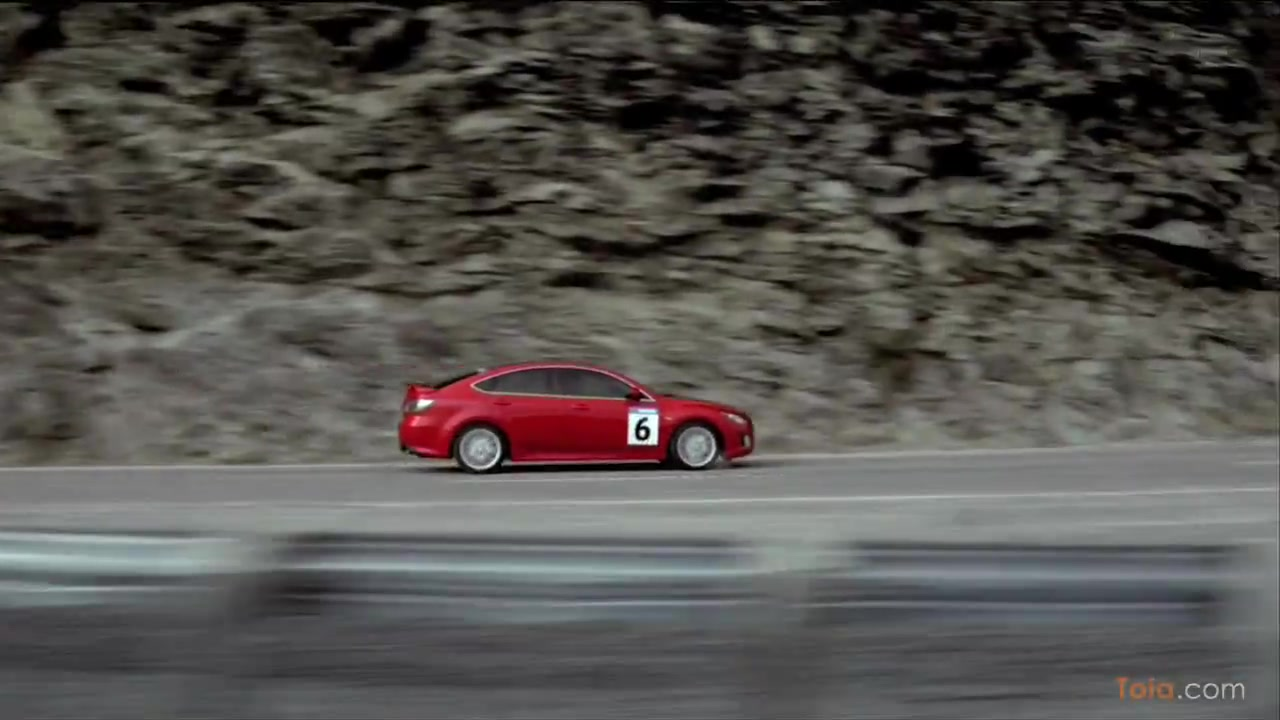car: (397, 354, 757, 474)
